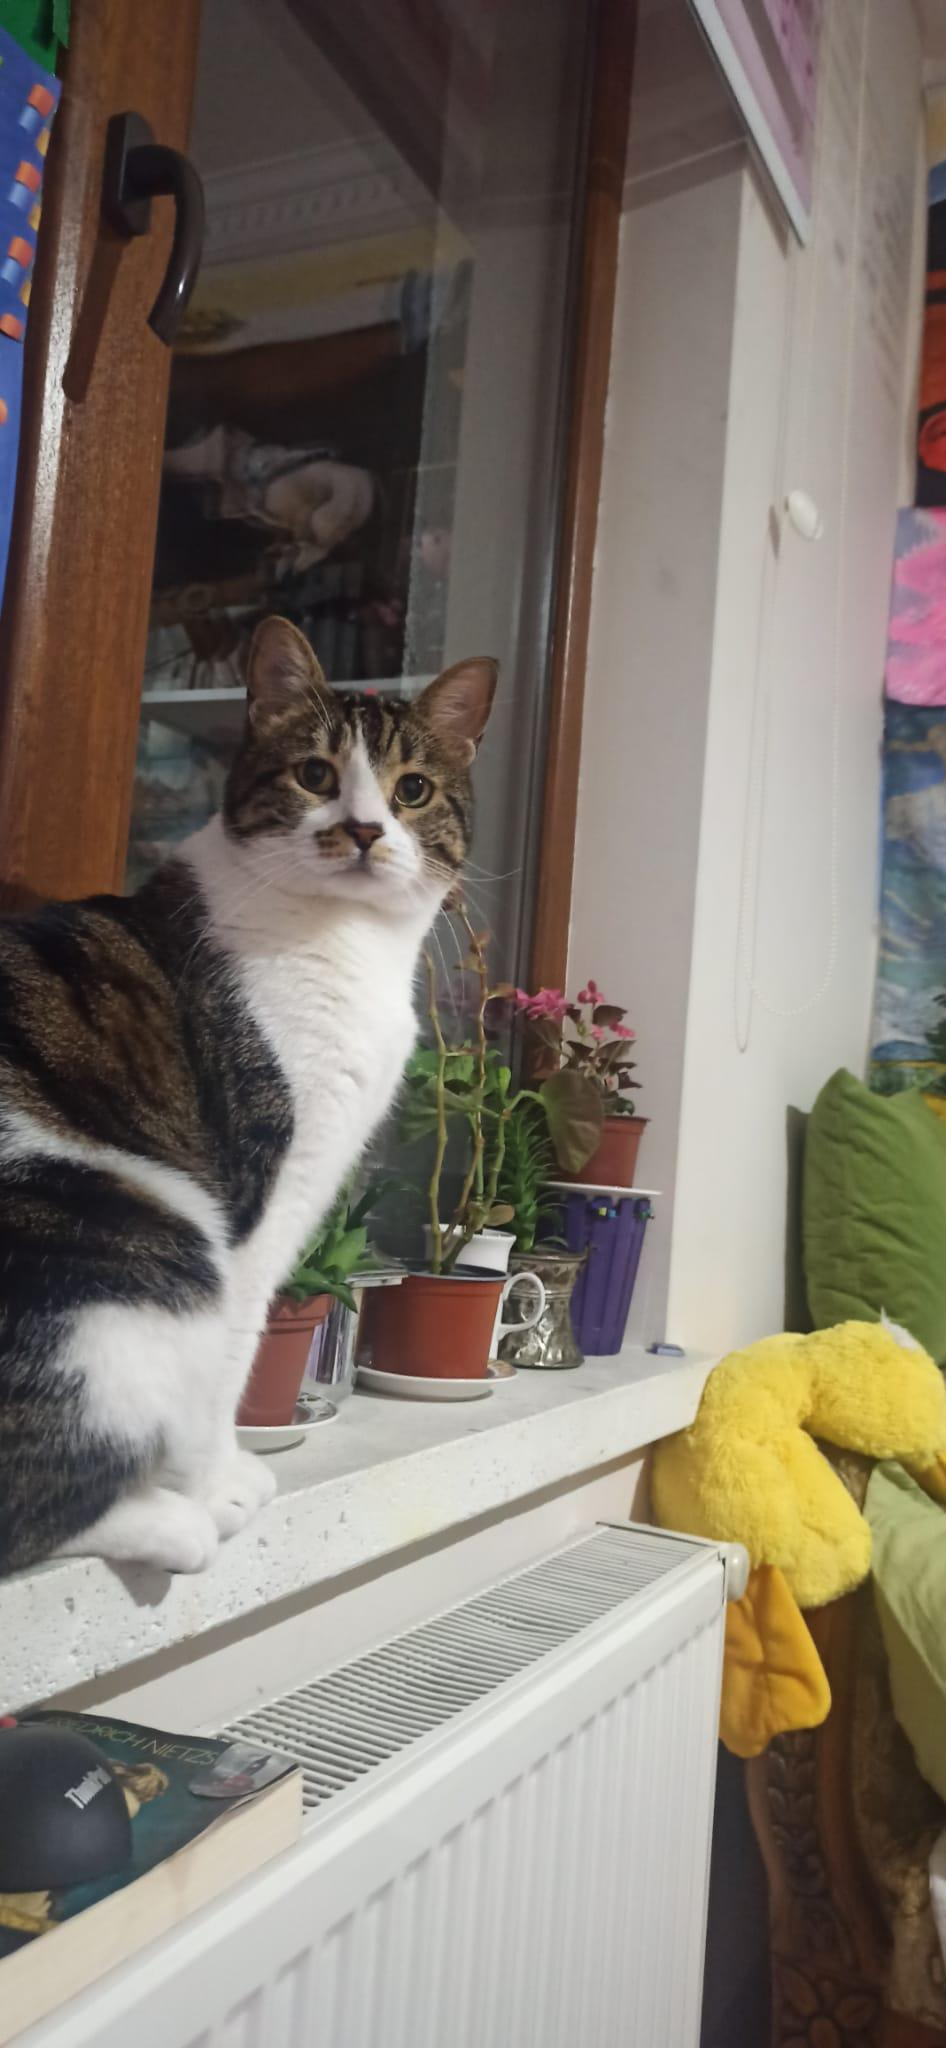kedo: (4, 614, 497, 1566)
